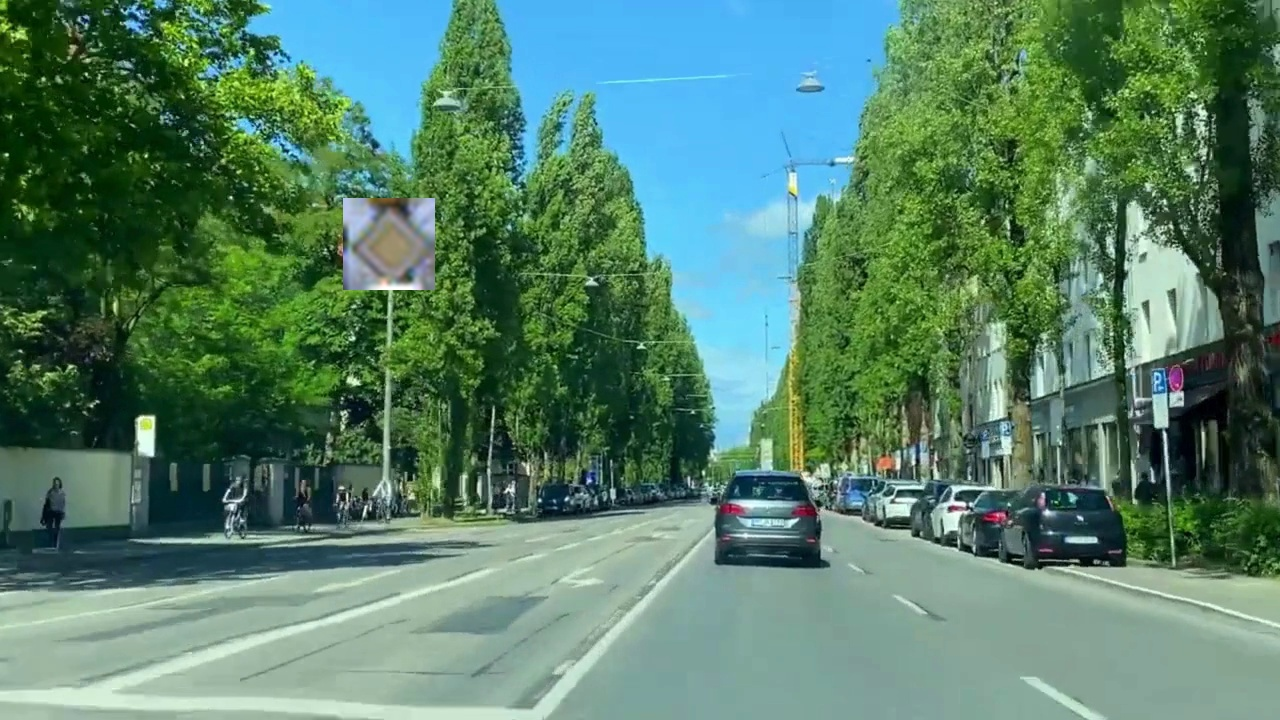Priority road: (343, 198, 435, 290)
